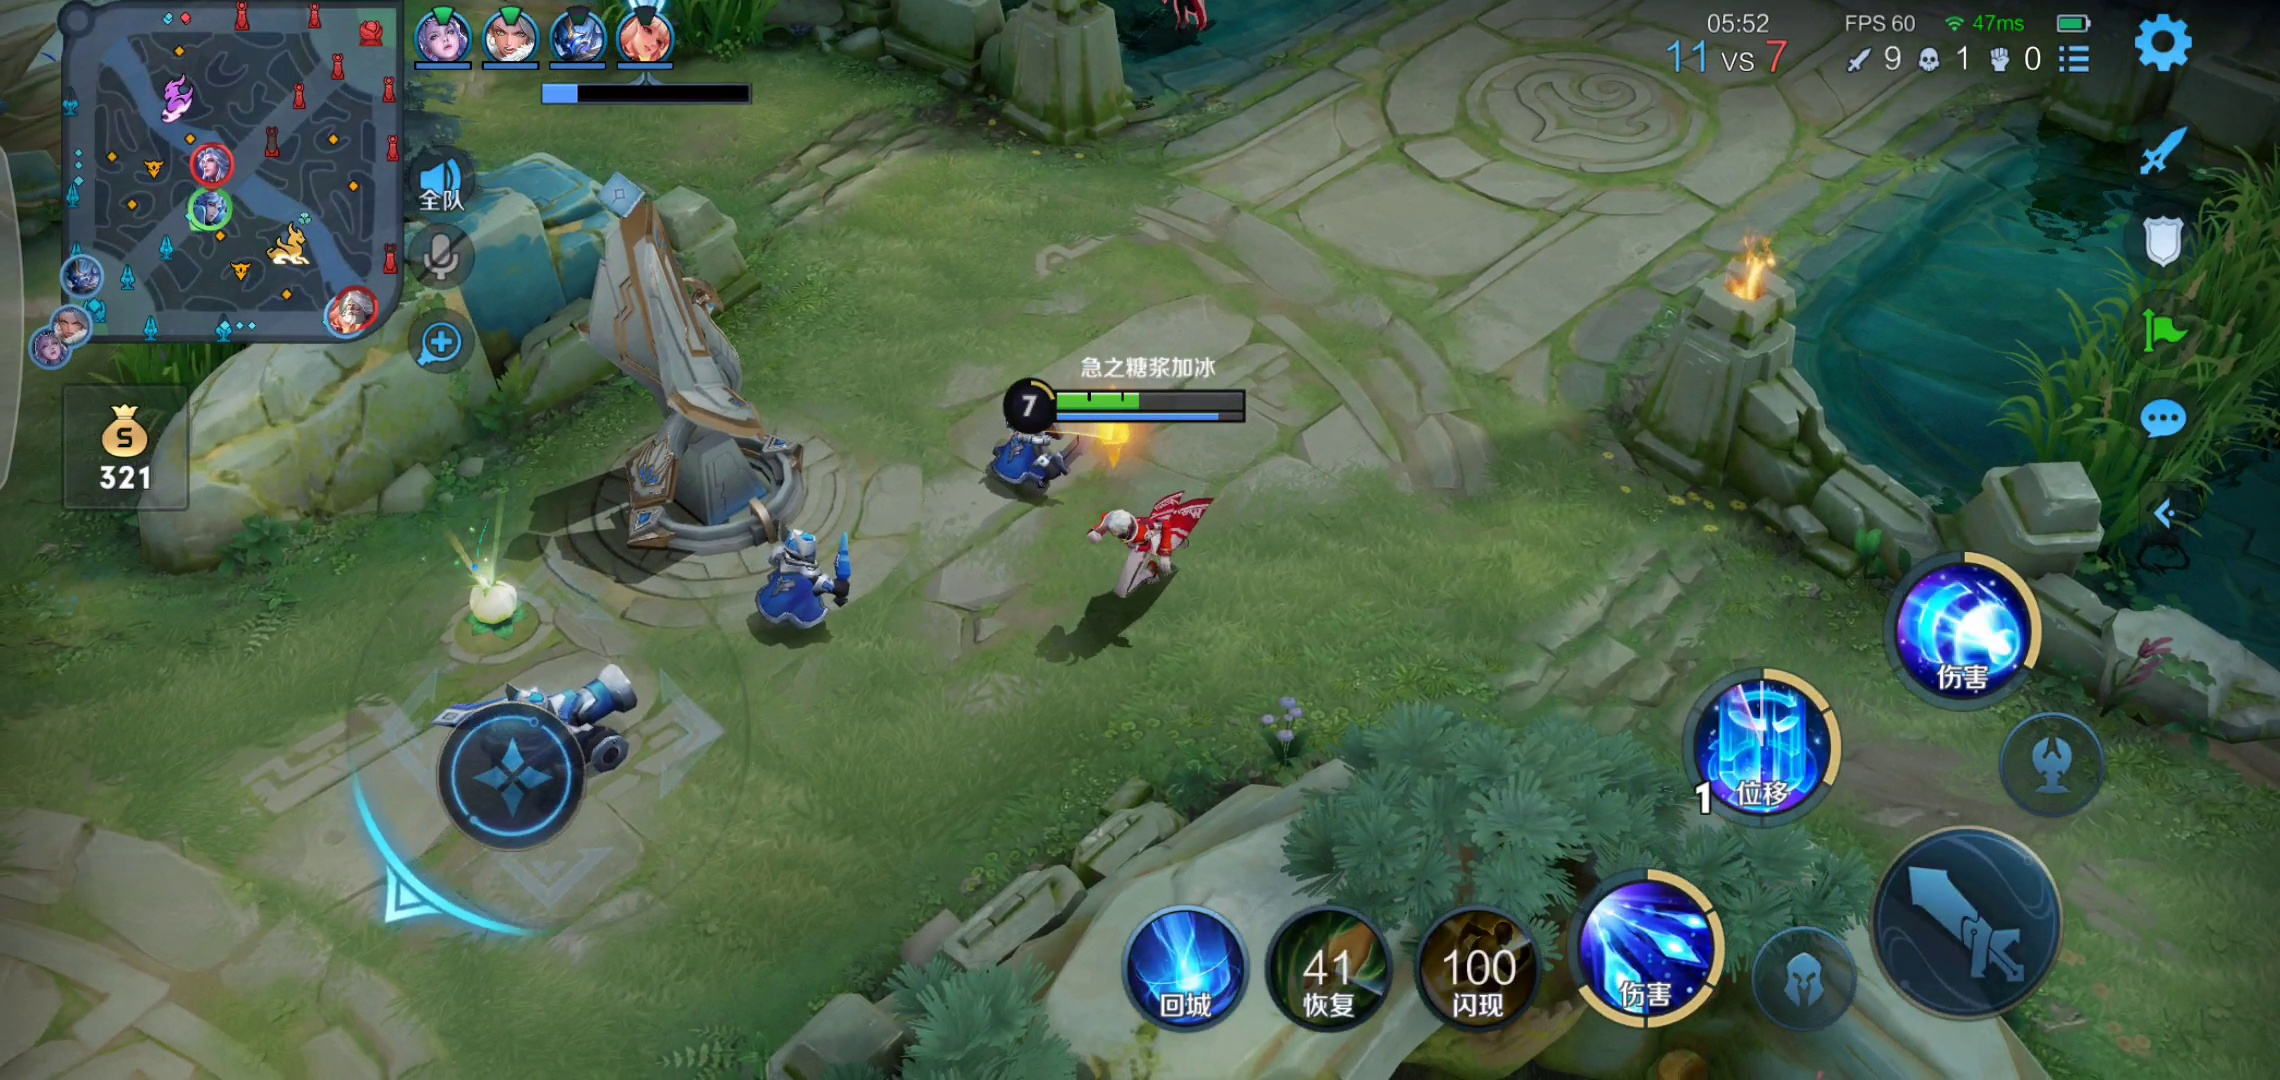grass: (2015, 161, 2280, 548)
hero: (1086, 493, 1217, 597)
soldier: (427, 653, 670, 799), (750, 541, 874, 642), (979, 394, 1089, 504)
tower: (550, 177, 822, 536)
